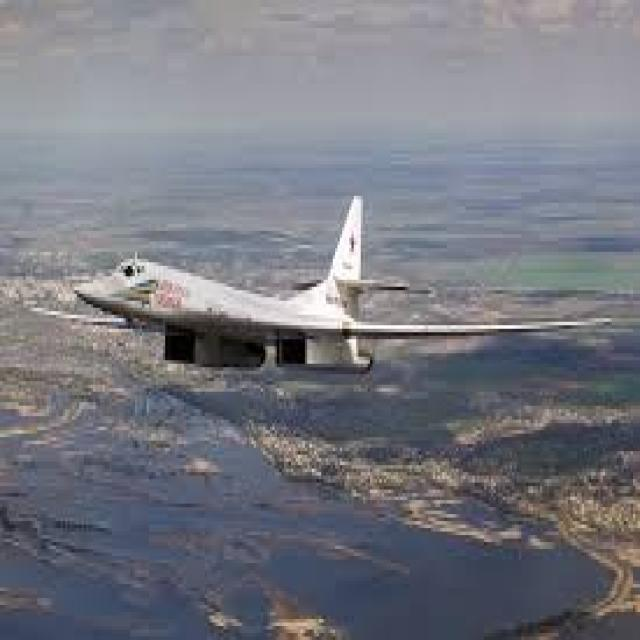Tu160: (64, 164, 624, 426)
